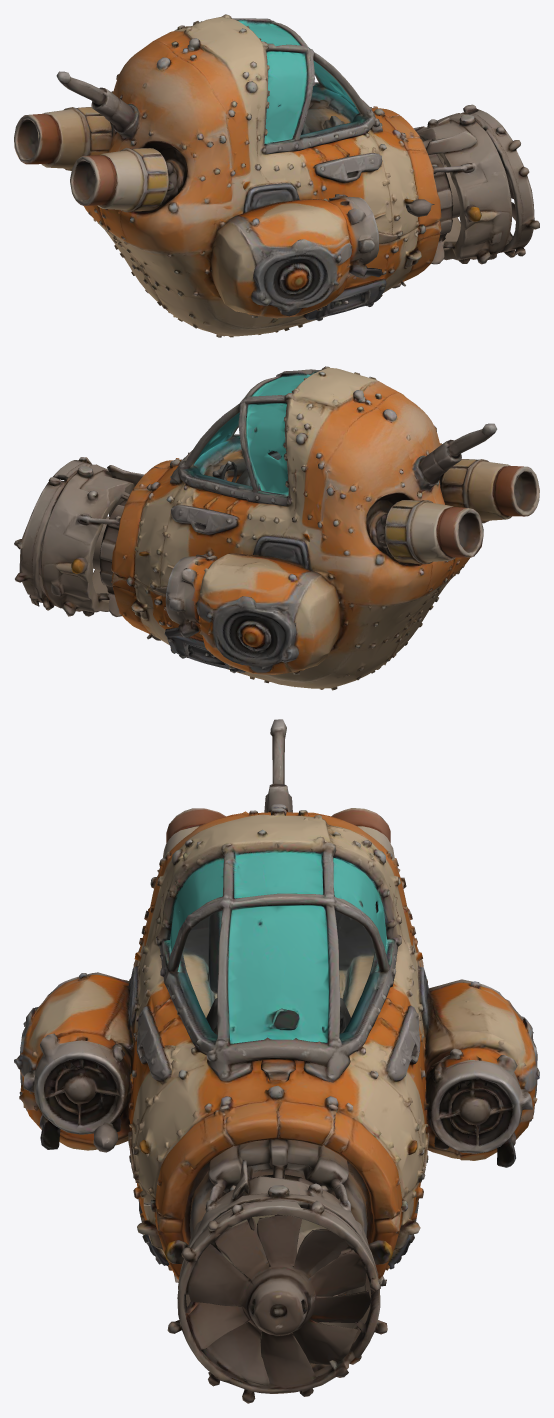
The model's file is foreuse.glb.
The picture shows the model from 3 angles, top to bottom: view 1: azimuth 30°, elevation 25°; view 2: azimuth 150°, elevation 25°; view 3: azimuth 270°, elevation 25°; orthographic projection. The views are drawn at different scales.
Parts seen in each view (by area): view 1: tripo_node_ff6007f4-eb55-4bc0-92e2-444a855a3c72; view 2: tripo_node_ff6007f4-eb55-4bc0-92e2-444a855a3c72; view 3: tripo_node_ff6007f4-eb55-4bc0-92e2-444a855a3c72.
Boxes of the visible parts, <box> form: tripo_node_ff6007f4-eb55-4bc0-92e2-444a855a3c72: <box>14,14,539,337</box>; tripo_node_ff6007f4-eb55-4bc0-92e2-444a855a3c72: <box>14,366,539,690</box>; tripo_node_ff6007f4-eb55-4bc0-92e2-444a855a3c72: <box>14,719,539,1403</box>.
Size of the model in its own units: 1 by 0.6136 by 0.7208.
1 material, 1 textured.
